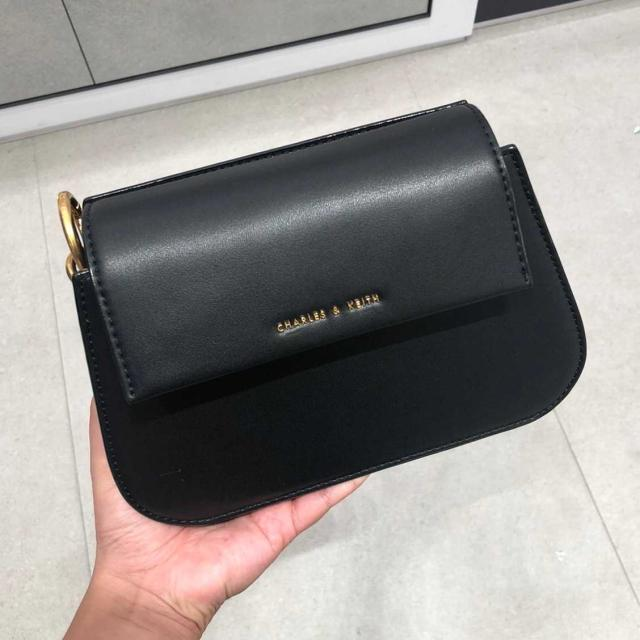Handbag: (62, 108, 592, 519)
